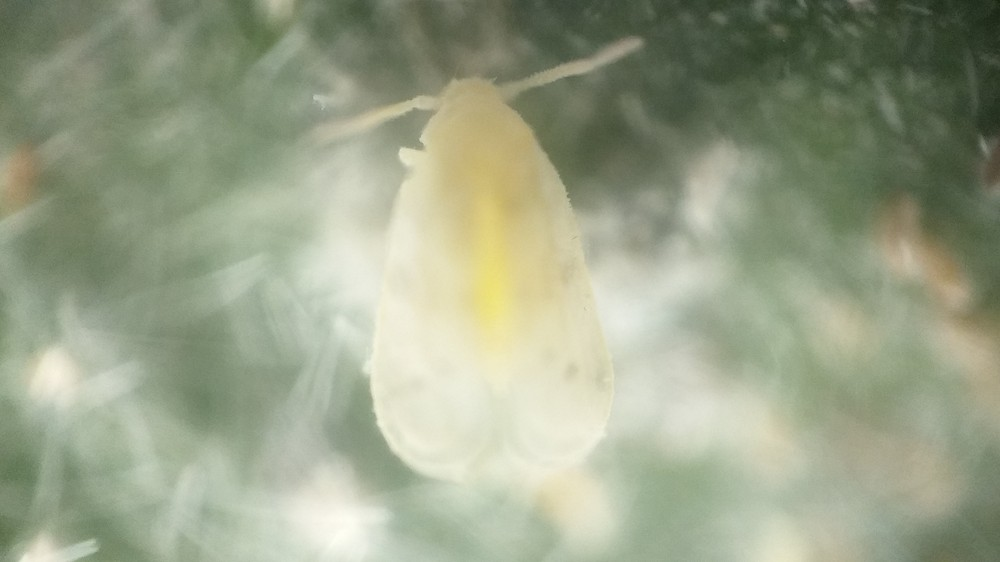Mosca Blanca: (299, 36, 650, 487)
